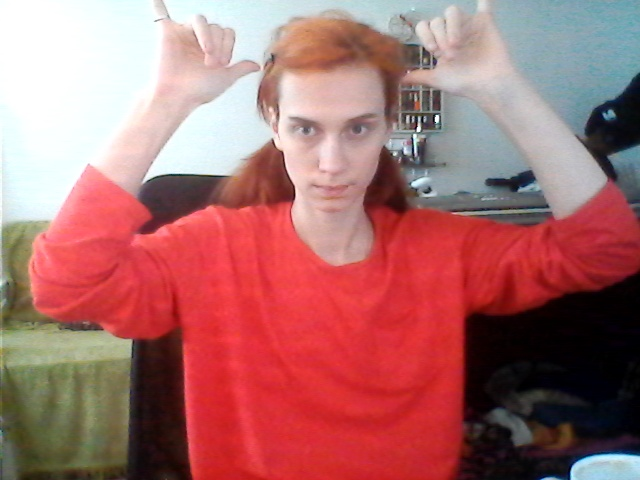krava: (135, 1, 508, 120)
